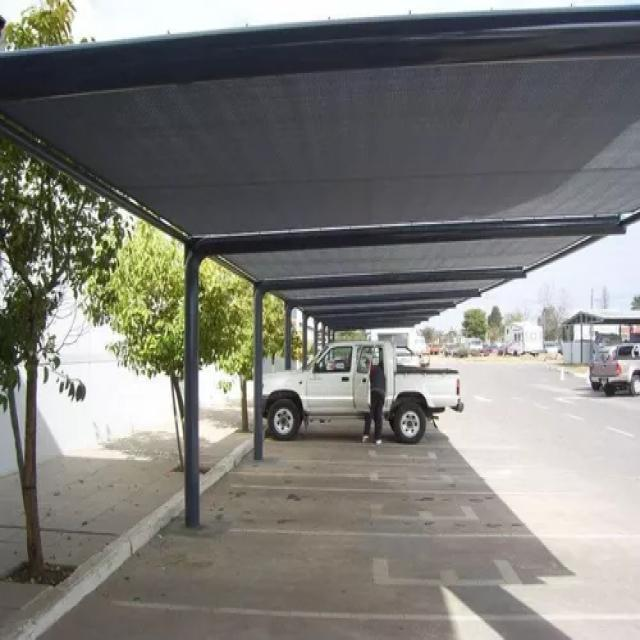ocupado: (65, 427, 603, 634), (259, 321, 478, 441)
